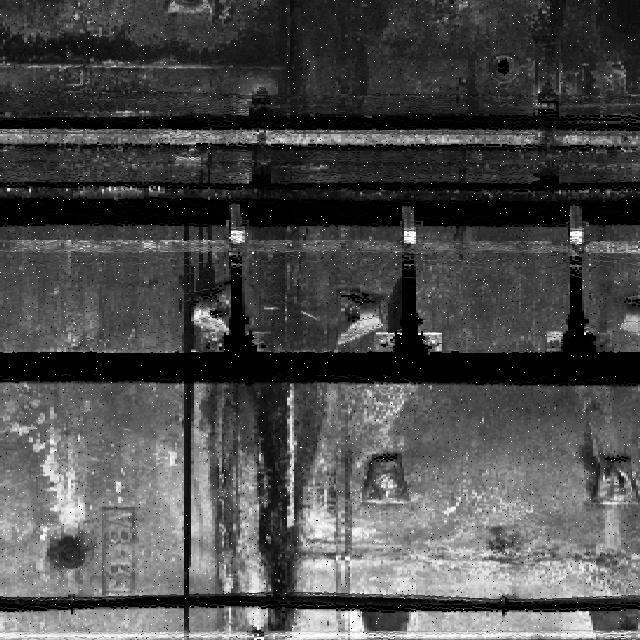leakage: (201, 383, 332, 634), (219, 1, 400, 166), (173, 230, 193, 638), (586, 1, 639, 109), (195, 228, 218, 304)
